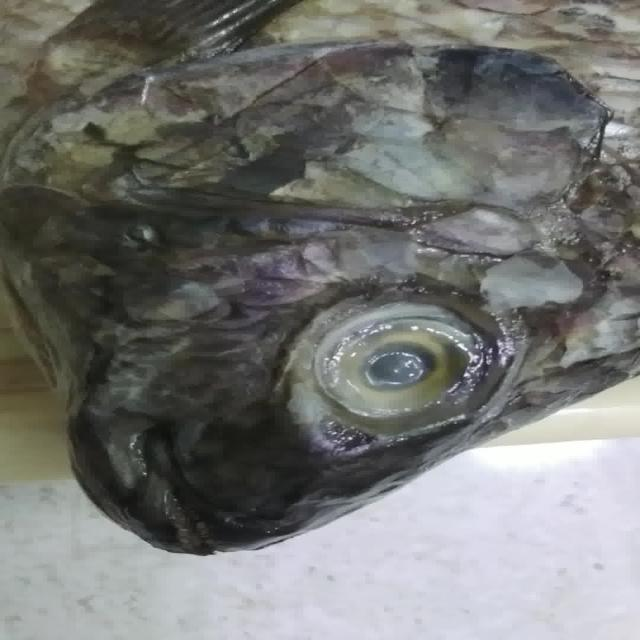Non-Fresh: (302, 292, 500, 433)
